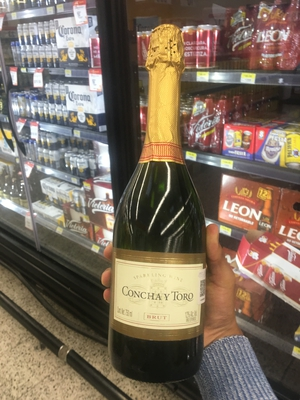brut: (108, 33, 219, 385)
